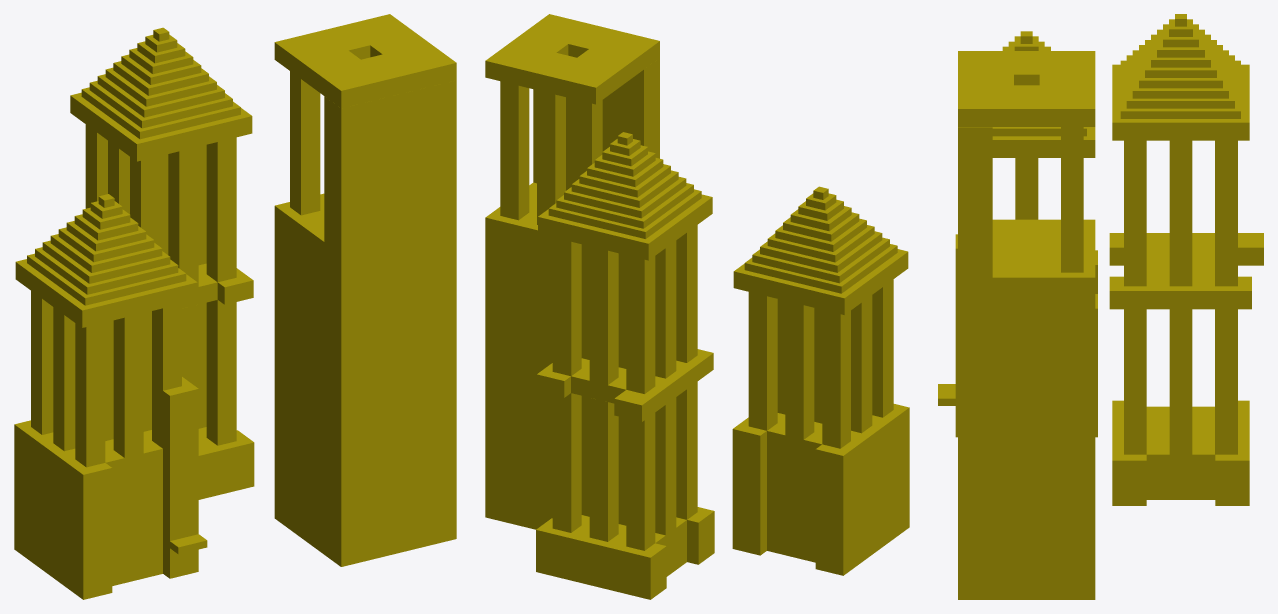
File: MainTowers.fbx
3 renders of one model, left to right at view 1: azimuth 30°, elevation 25°; view 2: azimuth 150°, elevation 25°; view 3: azimuth 270°, elevation 25°, orthographic. The views are drawn at different scales.
Visible parts, largest first — view 1: MainTowers; view 2: MainTowers; view 3: MainTowers.
Part boxes in pixels (x1=…): MainTowers: x1=14, y1=14, x2=456, y2=599; MainTowers: x1=485, y1=14, x2=909, y2=599; MainTowers: x1=938, y1=14, x2=1263, y2=599.
Size of the model in its own units: 3759 by 4568 by 2748.
